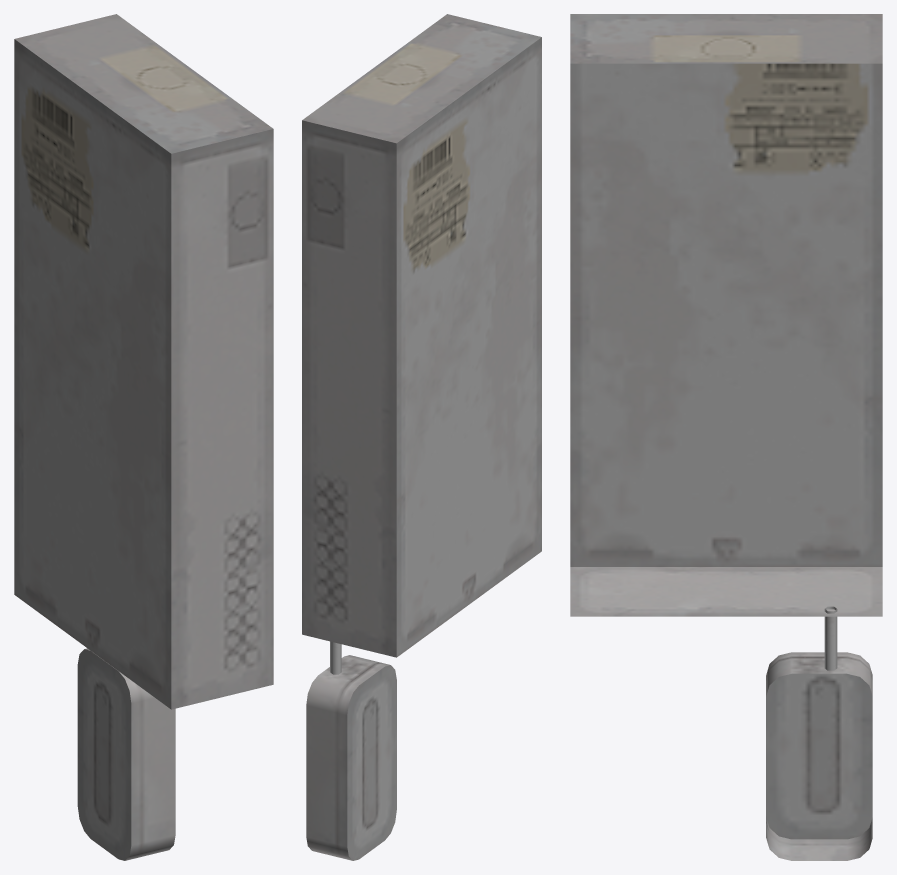
Rendered from MB_Electric_Meter_04.fbx.
The picture shows the model from 3 angles, left to right: view 1: azimuth 30°, elevation 25°; view 2: azimuth 150°, elevation 25°; view 3: azimuth 270°, elevation 25°; orthographic projection. The views are drawn at different scales.
Visible parts, largest first — view 1: MB_Electric_Meter_04; view 2: MB_Electric_Meter_04; view 3: MB_Electric_Meter_04.
Part boxes in pixels (x1,y1,x2,y2): MB_Electric_Meter_04: [14, 14, 273, 860]; MB_Electric_Meter_04: [302, 14, 541, 860]; MB_Electric_Meter_04: [570, 14, 882, 860].
Bounding box in the file's own units: 9.46 × 70.51 × 25.04.
